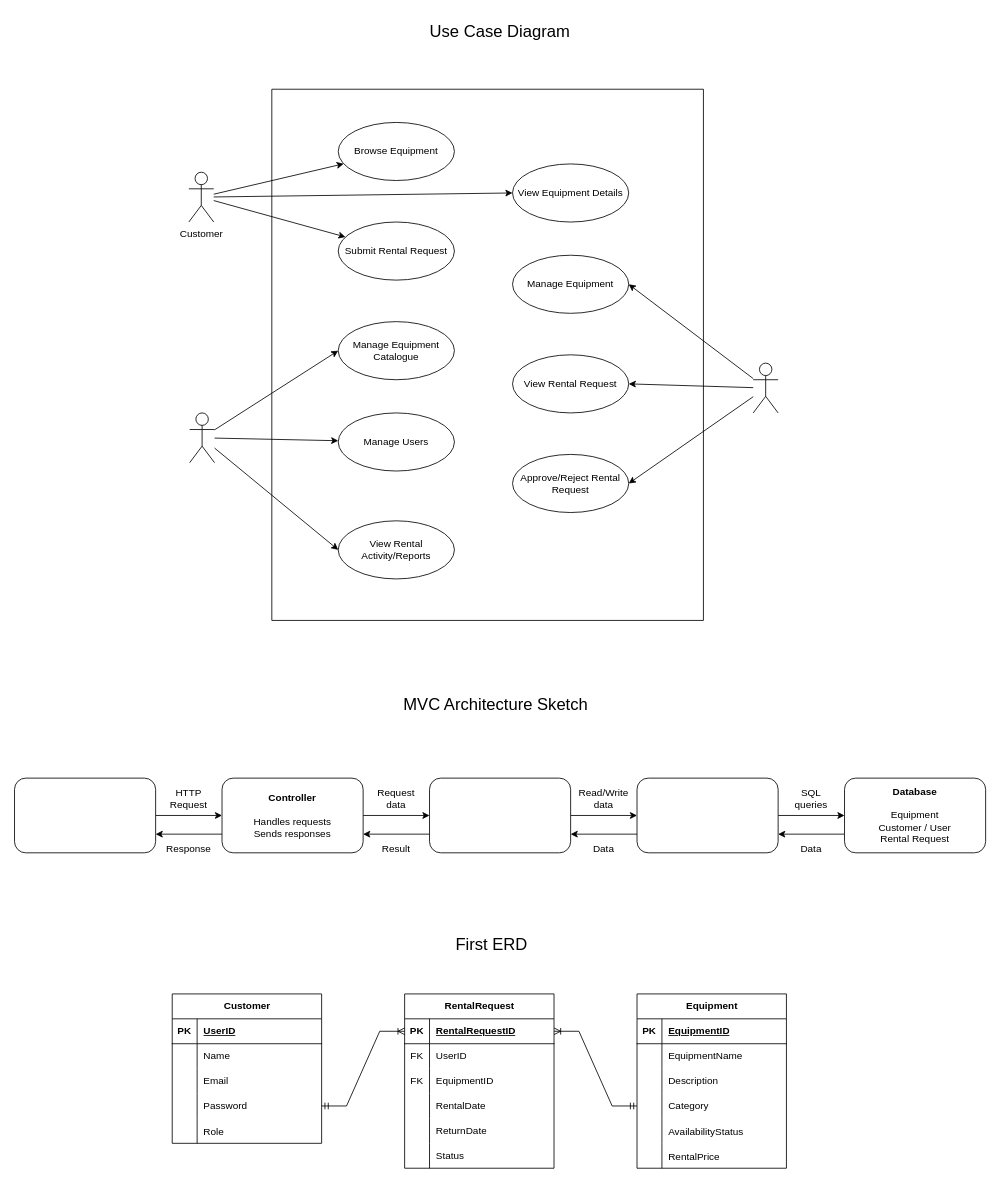
Image size: 1000x1183. Some labels were removed from this diagram. The shapes that lost their labels are listed below. From the top down, each one's box as (x1, y1, x2, y2) in pixels, then its label:
(752, 362, 778, 413): Staff
(189, 412, 215, 463): Manager
(14, 777, 156, 853): Browser Customer / Staff / Manager User interface
(429, 777, 571, 853): Service / Business Logic Business rules Availability checks Rental processing
(636, 777, 778, 853): Data Access Database operations SQL queries
